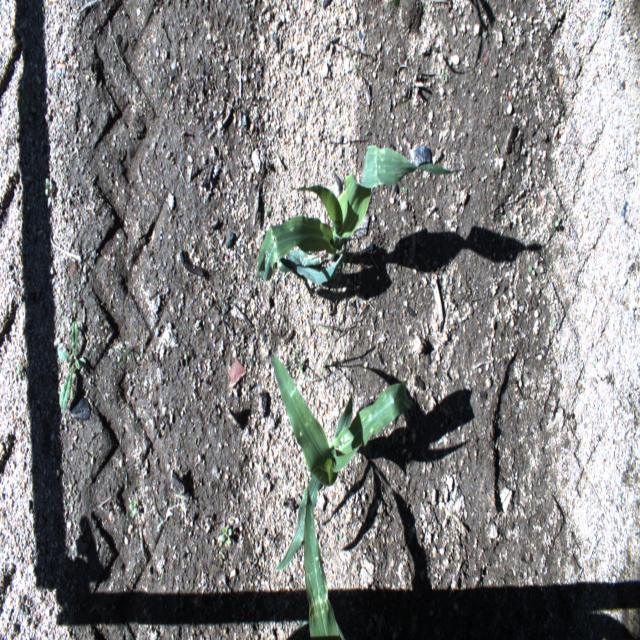crop: (269, 351, 410, 636), (249, 141, 467, 292)
weed: (54, 318, 84, 409), (314, 353, 353, 388), (288, 336, 310, 375), (125, 486, 144, 528), (343, 50, 366, 81), (432, 52, 451, 89), (118, 332, 138, 364), (318, 318, 348, 337), (38, 180, 59, 204), (28, 220, 50, 242), (214, 524, 234, 546), (551, 206, 565, 235), (16, 593, 28, 626), (18, 354, 30, 386), (524, 260, 539, 276)
